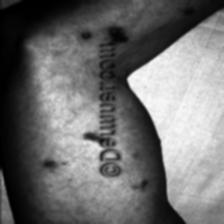Toxin: (104, 23, 130, 42), (41, 156, 64, 172), (130, 177, 149, 191), (82, 130, 98, 144), (78, 30, 93, 40), (182, 5, 192, 16)
